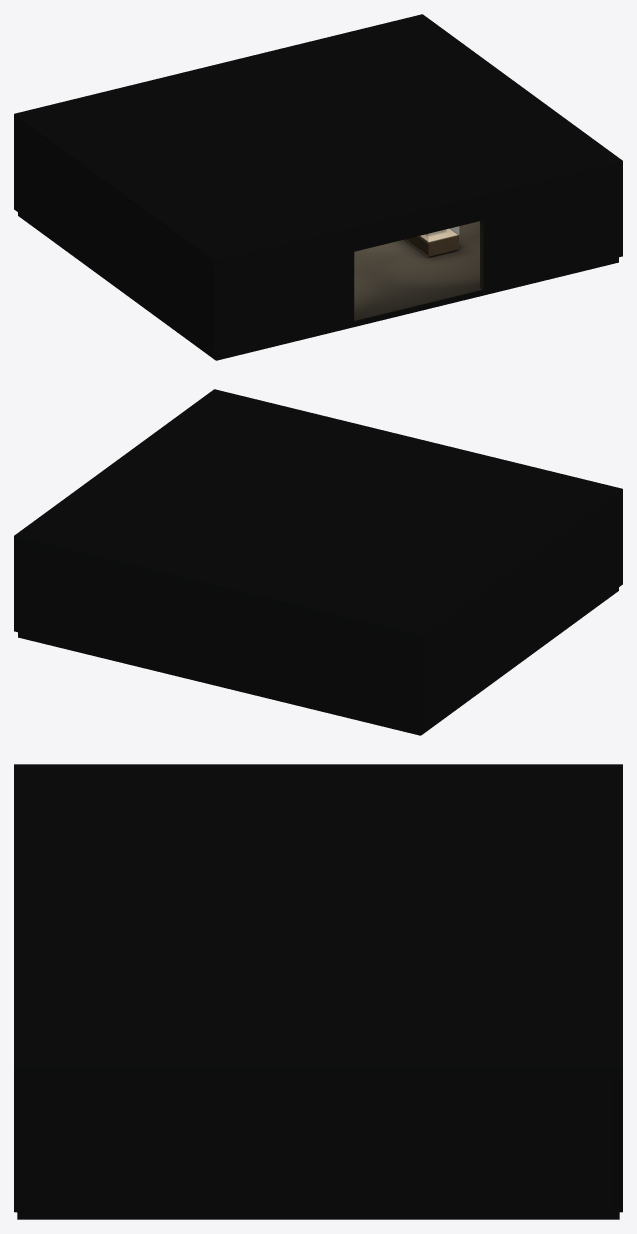
The model's file is museum_R03.glb.
The picture shows the model from 3 angles, top to bottom: view 1: azimuth 30°, elevation 25°; view 2: azimuth 150°, elevation 25°; view 3: azimuth 270°, elevation 25°; orthographic projection. The views are drawn at different scales.
Parts seen in each view (by area): view 1: Baked_Architecture_and_Lining.002, Island_R_base.003; view 2: Baked_Architecture_and_Lining.002; view 3: Baked_Architecture_and_Lining.002.
Boxes of the visible parts, x1=… form: Baked_Architecture_and_Lining.002: x1=14, y1=14, x2=622, y2=360; Island_R_base.003: x1=405, y1=235, x2=458, y2=256; Baked_Architecture_and_Lining.002: x1=14, y1=389, x2=622, y2=735; Baked_Architecture_and_Lining.002: x1=14, y1=764, x2=622, y2=1219.
Bounding box in the file's own units: 21.9 × 5.22 × 18.6.
7 materials, 2 textured.
